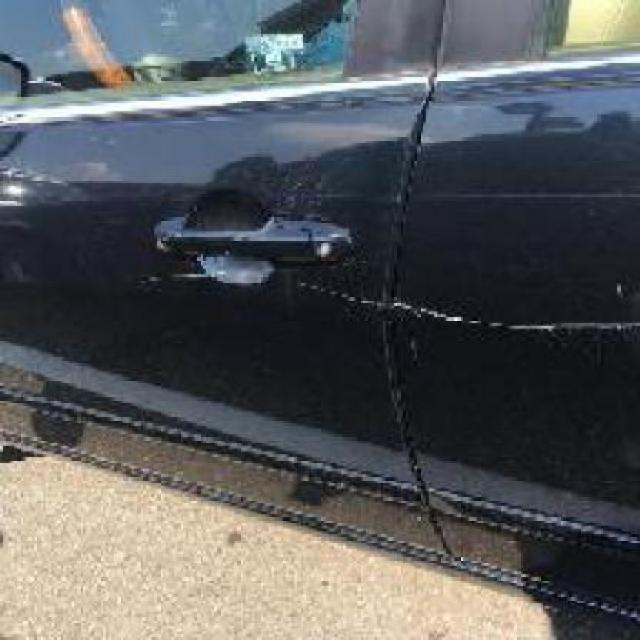dent-or-scratch: (142, 268, 638, 346)
